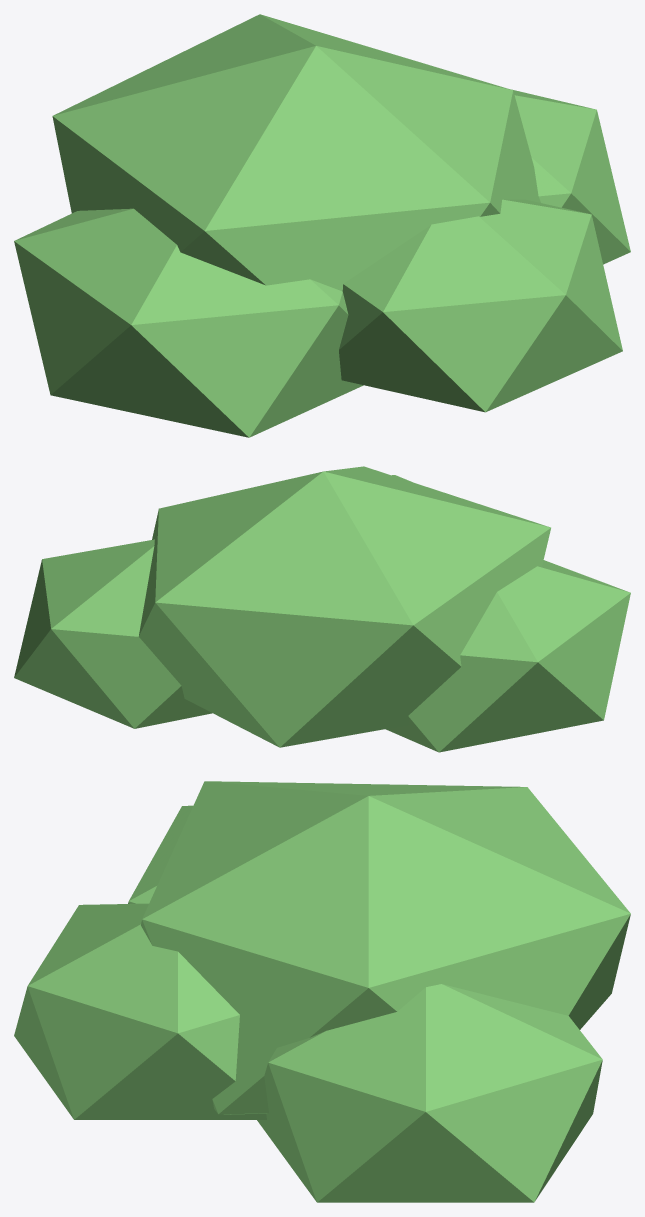
The model's file is BUSH-00.glb.
The picture shows the model from 3 angles, top to bottom: view 1: azimuth 30°, elevation 25°; view 2: azimuth 150°, elevation 25°; view 3: azimuth 270°, elevation 25°; orthographic projection. The views are drawn at different scales.
Visible parts, largest first — view 1: BUSH-00; view 2: BUSH-00; view 3: BUSH-00.
Part boxes in pixels (<box>): BUSH-00: <box>14,14,630,437</box>; BUSH-00: <box>14,466,630,752</box>; BUSH-00: <box>14,781,630,1202</box>.
Size of the model in its own units: 1.5 by 0.7478 by 1.29.
